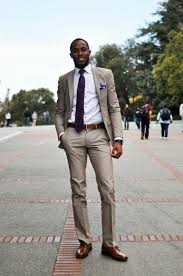F_M_suit jacket: (54, 62, 127, 148)
F_belt: (62, 119, 109, 135)
F_dress pants: (63, 120, 115, 246)
F_tie: (72, 67, 89, 130)
